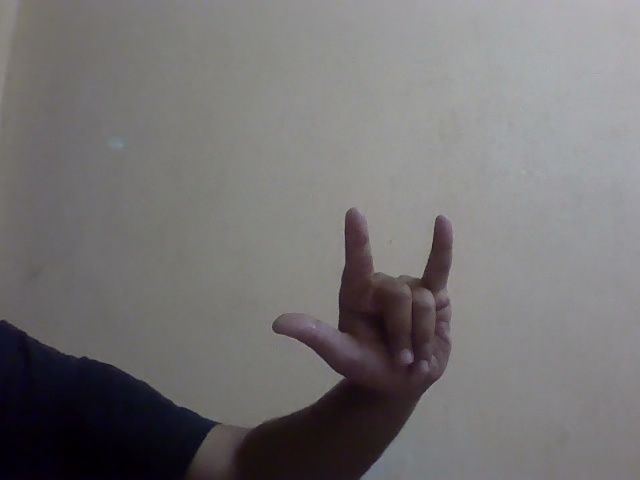I love you: (262, 198, 486, 407)
